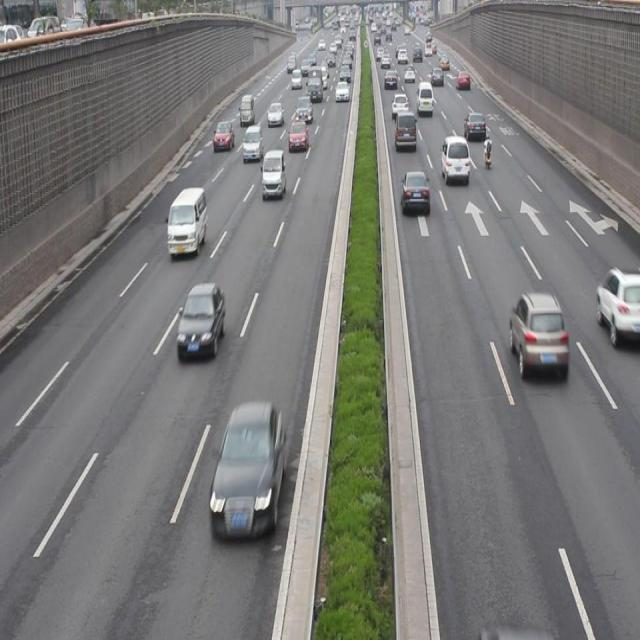car: (208, 400, 284, 543), (508, 291, 566, 376), (176, 281, 224, 359), (596, 266, 640, 346), (399, 169, 428, 213), (463, 110, 486, 141), (213, 120, 234, 153), (288, 120, 308, 152), (266, 101, 282, 127)
truck: (167, 187, 206, 256), (441, 135, 468, 184), (261, 148, 285, 198), (394, 108, 416, 150), (242, 122, 263, 162), (239, 94, 256, 124)
